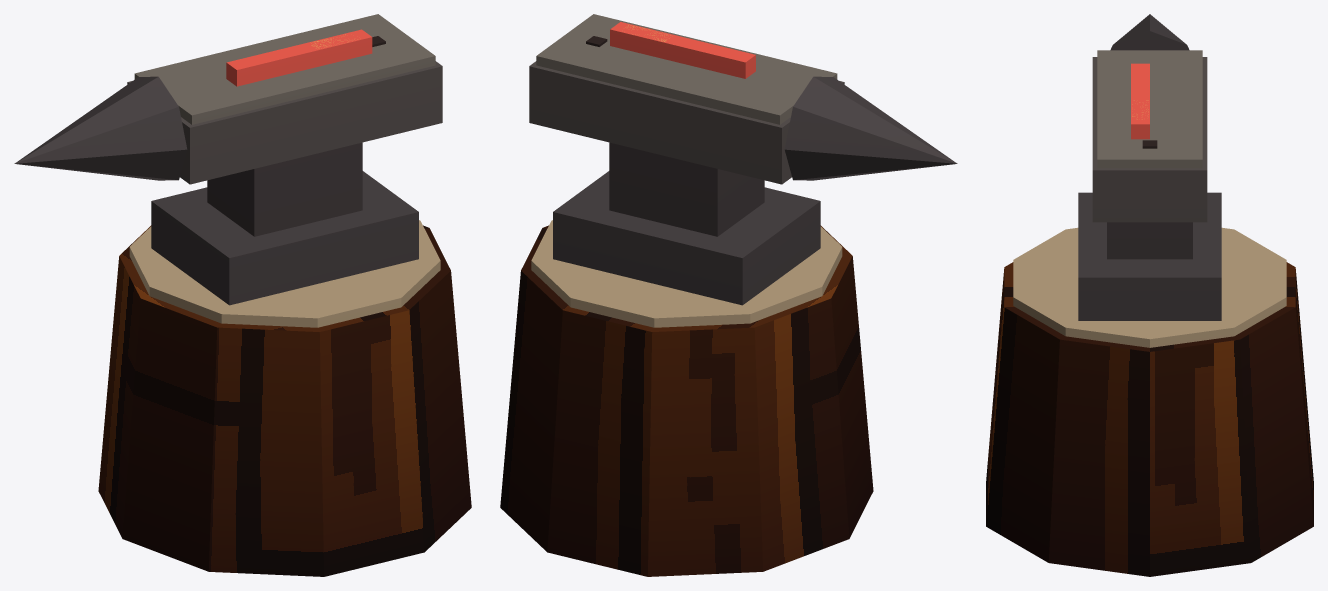
File: forge_anvil.glb
3 renders of one model, left to right at view 1: azimuth 30°, elevation 25°; view 2: azimuth 150°, elevation 25°; view 3: azimuth 270°, elevation 25°, orthographic. The views are drawn at different scales.
Parts seen in each view (by area): view 1: forge_anvil; view 2: forge_anvil; view 3: forge_anvil.
Boxes of the visible parts, box(x1,y1,x2,y2) form: forge_anvil: box(14, 14, 471, 576); forge_anvil: box(500, 14, 957, 576); forge_anvil: box(986, 14, 1313, 576).
Bounding box in the file's own units: 0.96 × 0.96 × 0.6848.
3 materials, 1 textured.
